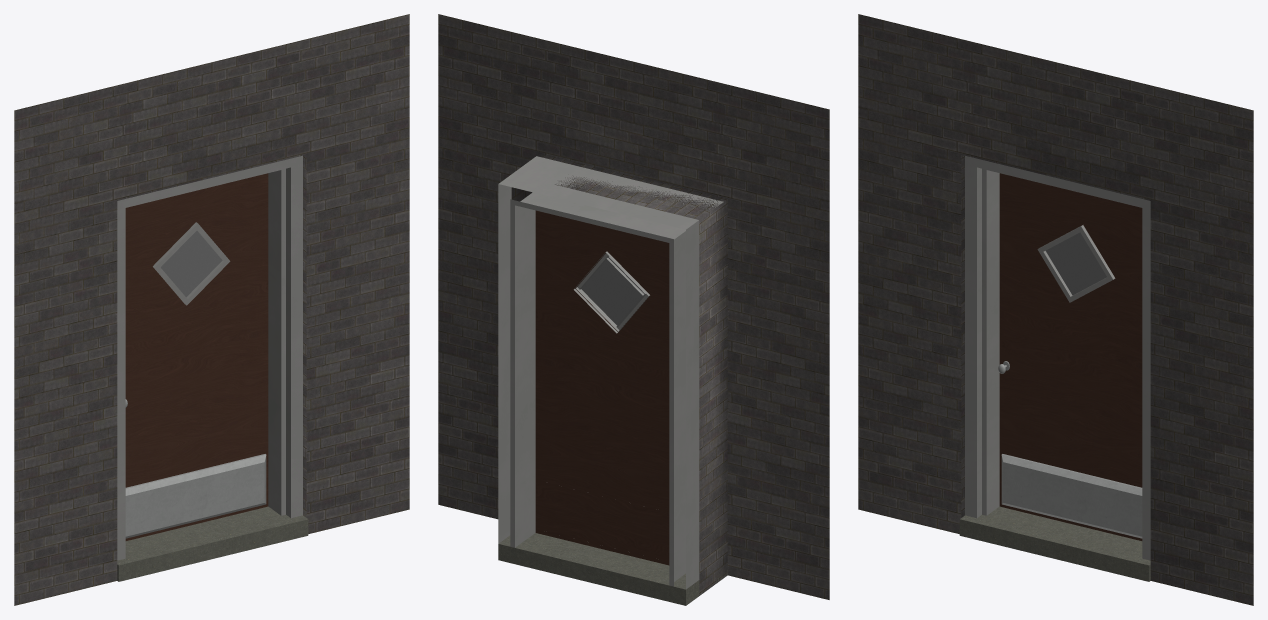
File: Sm_DoorBase02.fbx
The picture shows the model from 3 angles, left to right: view 1: azimuth 30°, elevation 25°; view 2: azimuth 150°, elevation 25°; view 3: azimuth 330°, elevation 25°; orthographic projection.
Parts seen in each view (by area): view 1: Sm_DoorBase02; view 2: Sm_DoorBase02; view 3: Sm_DoorBase02.
Boxes of the visible parts, x1,y1,x2,y2 form: Sm_DoorBase02: (14,14,409,605); Sm_DoorBase02: (438,14,829,605); Sm_DoorBase02: (858,14,1253,605).
Bounding box in the file's own units: 251 × 47.99 × 300.
Materials: 8 (8 with a texture image).
